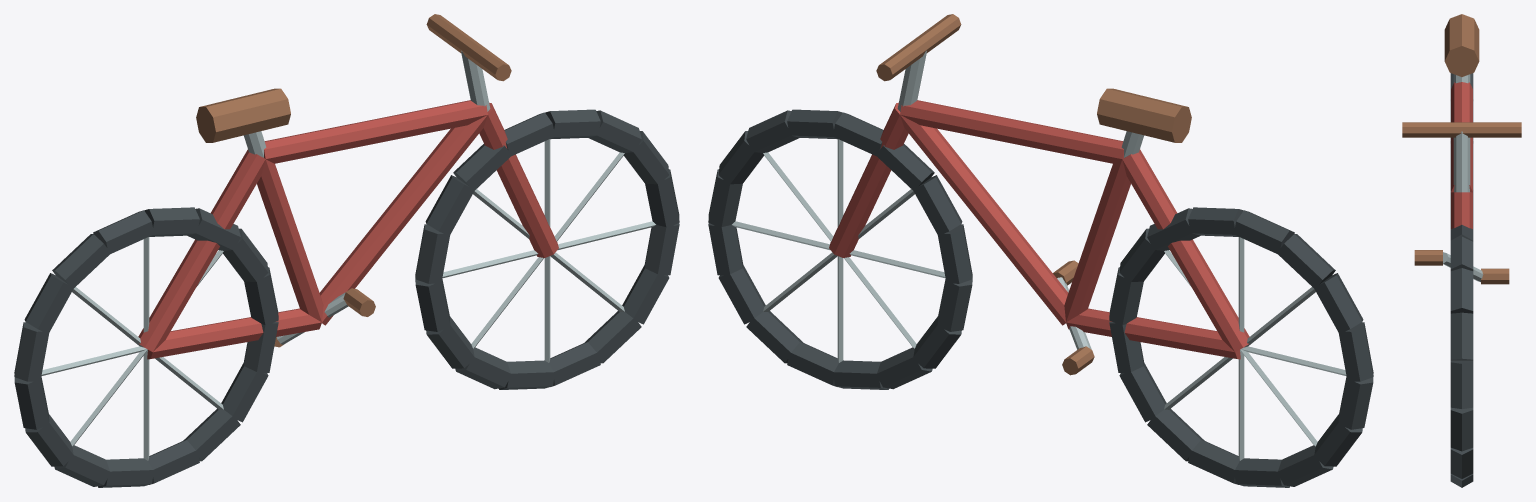
The model's file is bicycle.glb.
3 renders of one model, left to right at view 1: azimuth 30°, elevation 25°; view 2: azimuth 150°, elevation 25°; view 3: azimuth 270°, elevation 25°, orthographic. The views are drawn at different scales.
Parts seen in each view (by area): view 1: Winter bicycle; view 2: Winter bicycle; view 3: Winter bicycle.
Boxes of the visible parts, <box> form: Winter bicycle: <box>14,14,679,487</box>; Winter bicycle: <box>708,14,1373,487</box>; Winter bicycle: <box>1402,14,1521,487</box>.
Size of the model in its own units: 2.12 by 1.12 by 0.38.
